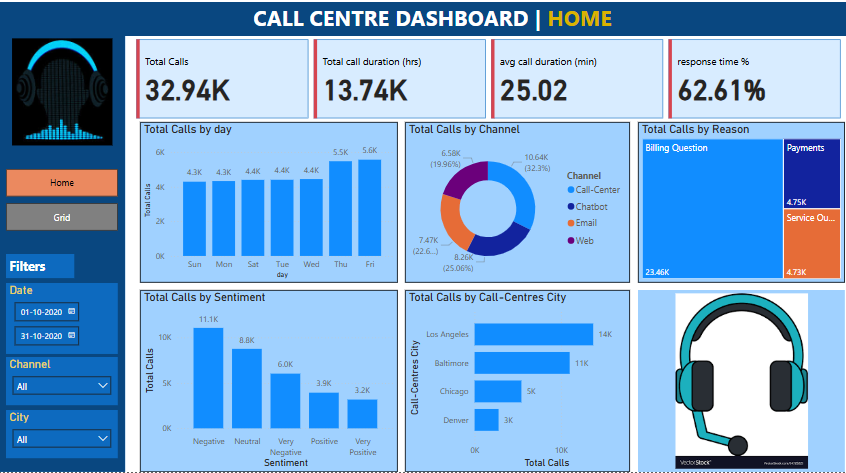

Layout of this report page (visuals, bound fields, positions):
{"tool":"powerbi","page":{"name":"Home ","canvas":[1280,720],"ordinal":0},"visuals":[{"type":"shape","box":[0,17.9,1266.7,50.8],"z":0},{"type":"shape","box":[0,68.7,189.7,651.3],"z":1000},{"type":"cardVisual","fields":{"Data":["Call Center_Call Center.Total Calls","Call Center_Call Center.Total call duration (hrs)","Call Center_Call Center.avg call duration (min)","Call Center_Call Center.response time %"]},"box":[202,68.8,1063.9,128.8],"z":2000},{"type":"columnChart","fields":{"Category":["date table.day"],"Y":["Call Center_Call Center.Total Calls"]},"box":[212.1,197.2,385.4,240.5],"z":3000},{"type":"donutChart","fields":{"Y":["Call Center_Call Center.Total Calls"],"Category":["Call Center_Call Center.Channel"]},"box":[608,197.2,336.1,240.5],"z":4000},{"type":"textbox","box":[376.4,13.4,567.6,53.8],"z":5000},{"type":"columnChart","fields":{"Y":["Call Center_Call Center.Total Calls"],"Category":["Call Center_Call Center.Sentiment"]},"box":[212.1,448.1,385.4,271.9],"z":6000},{"type":"clusteredBarChart","fields":{"Y":["Call Center_Call Center.Total Calls"],"Category":["Call Center_Call Center.Call-Centres City"]},"box":[608,448.1,336.1,271.9],"z":7000},{"type":"treemap","fields":{"Group":["Call Center_Call Center.Reason"],"Values":["Call Center_Call Center.Total Calls"]},"box":[956,197.2,309.2,240.5],"z":8000},{"type":"slicer","title":"Date","fields":{"Values":["date table.Date"]},"box":[12,437.7,167.3,106.1],"z":9000},{"type":"slicer","title":"Channel","fields":{"Values":["Call Center_Call Center.Channel"]},"box":[12,548.2,167.3,71.7],"z":10000},{"type":"slicer","title":"City","fields":{"Values":["Call Center_Call Center.City"]},"box":[12,627.4,167.3,71.7],"z":11000},{"type":"image","box":[6,67.2,179.3,170.3],"z":12000},{"type":"pageNavigator","box":[12,267.4,167.3,92.6],"z":13000},{"type":"textbox","box":[12,394.4,101.6,35.9],"z":14000},{"type":"image","box":[956,448,309,272],"z":15000}]}

Visuals, with their boxes in screenshot pixels (x1, y1, x2, y2), scaled from the page's 1280x720 canvas onto the 846x473 screenshot:
shape: select_region(0, 12, 837, 45)
shape: select_region(0, 45, 125, 472)
cardVisual - Call Center_Call Center.Total Calls x Call Center_Call Center.Total call duration (hrs): select_region(134, 45, 837, 130)
columnChart - date table.day x Call Center_Call Center.Total Calls: select_region(140, 130, 395, 288)
donutChart - Call Center_Call Center.Total Calls x Call Center_Call Center.Channel: select_region(402, 130, 624, 288)
textbox: select_region(249, 9, 624, 44)
columnChart - Call Center_Call Center.Total Calls x Call Center_Call Center.Sentiment: select_region(140, 294, 395, 472)
clusteredBarChart - Call Center_Call Center.Total Calls x Call Center_Call Center.Call-Centres City: select_region(402, 294, 624, 472)
treemap - Call Center_Call Center.Reason x Call Center_Call Center.Total Calls: select_region(632, 130, 836, 288)
"Date" slicer: select_region(8, 288, 119, 357)
"Channel" slicer: select_region(8, 360, 119, 407)
"City" slicer: select_region(8, 412, 119, 459)
image: select_region(4, 44, 122, 156)
pageNavigator: select_region(8, 176, 119, 236)
textbox: select_region(8, 259, 75, 283)
image: select_region(632, 294, 836, 472)
